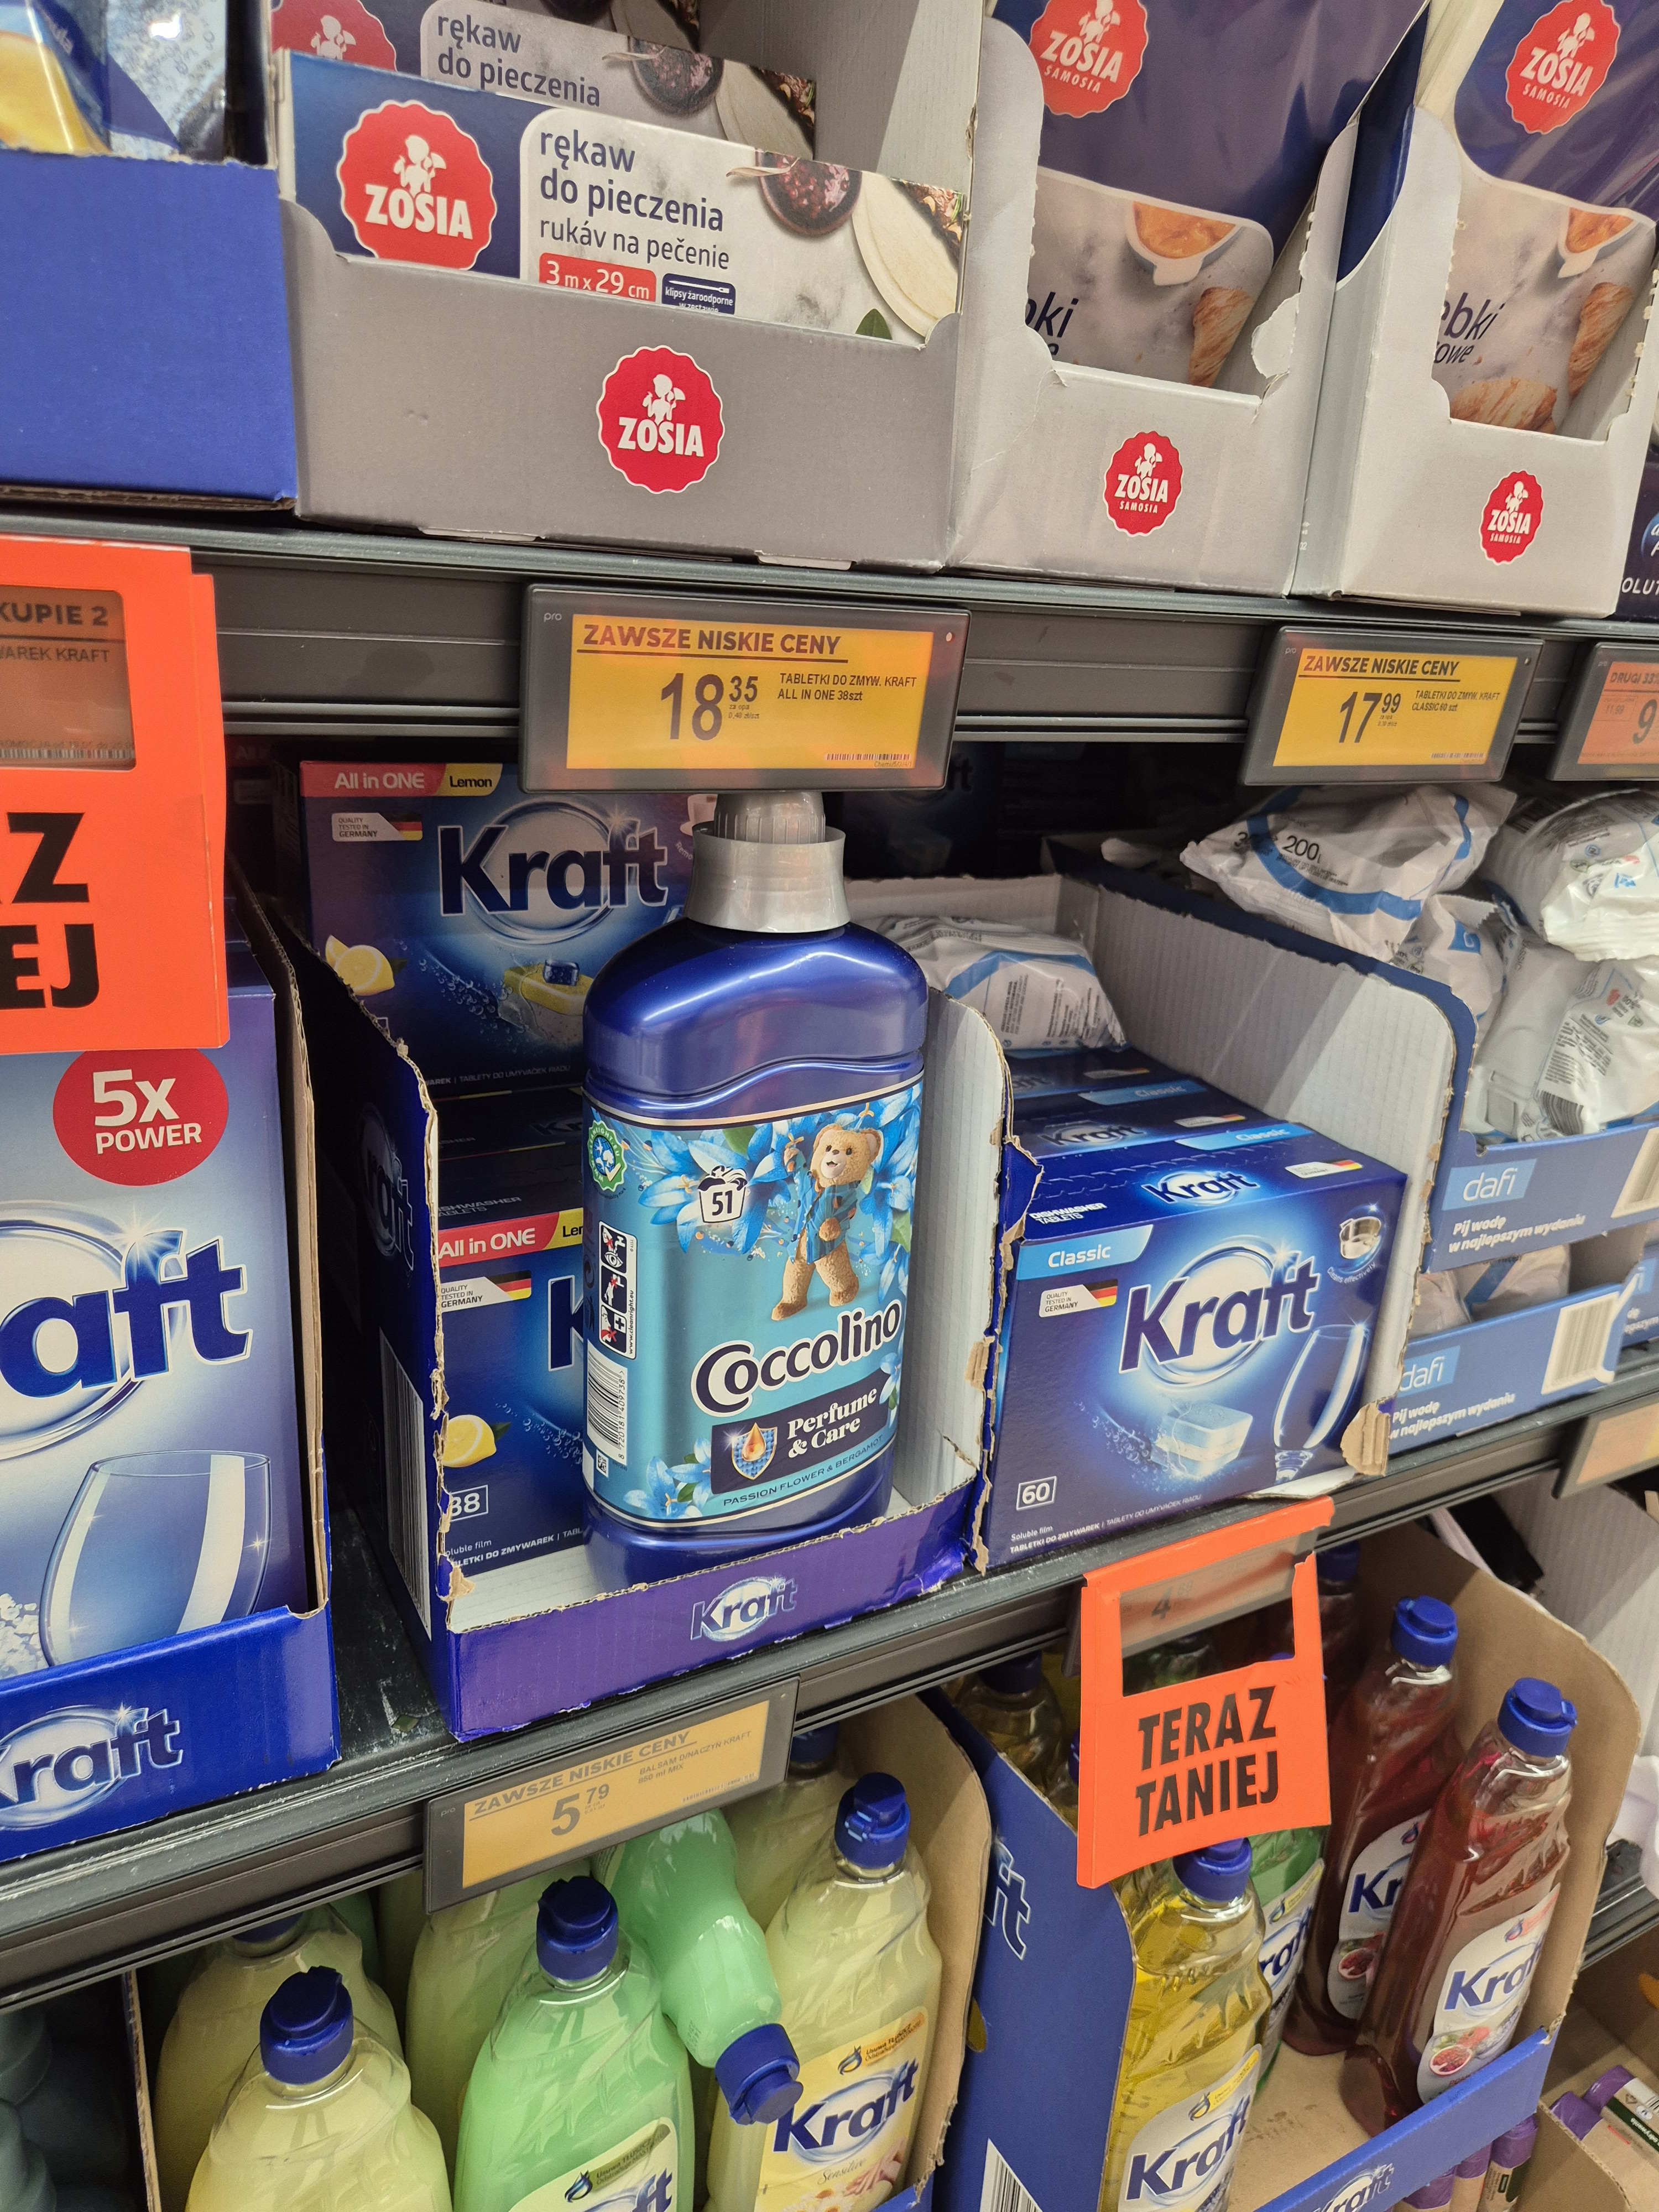cocolino: (601, 772, 927, 1587)
